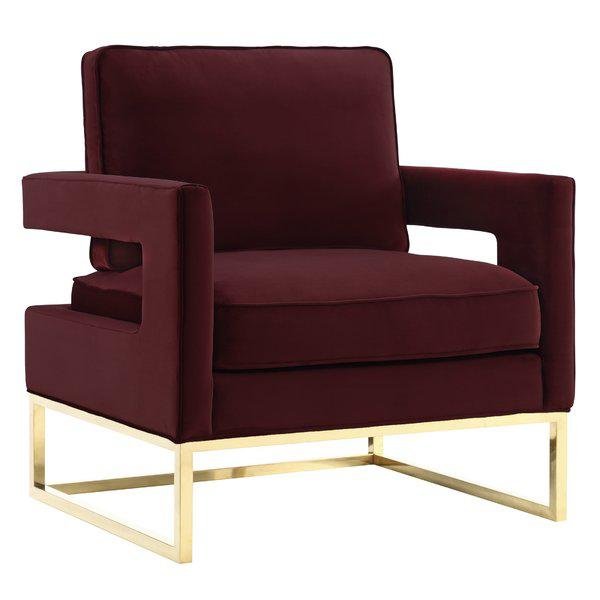chair: (15, 36, 592, 569)
